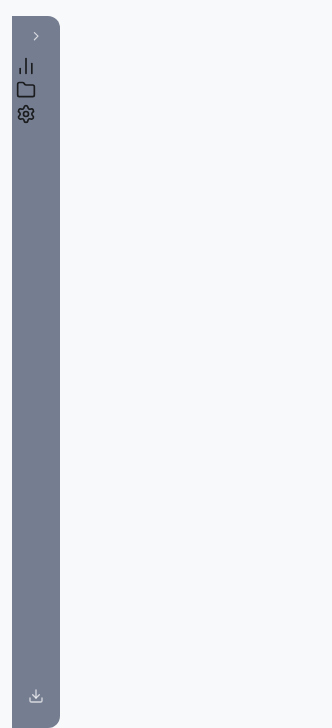
Test: Sidebar › clicking the toggle button expands the sidebar
Click the button named "Expand sidebar" at (36, 36), box [12,16,60,56]
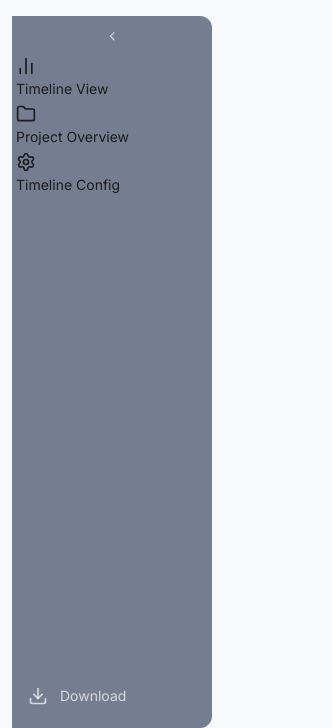
Result: the element showing "Timeline View Project Overview Timeline Config Download" is expanded at [12,16,212,727]
